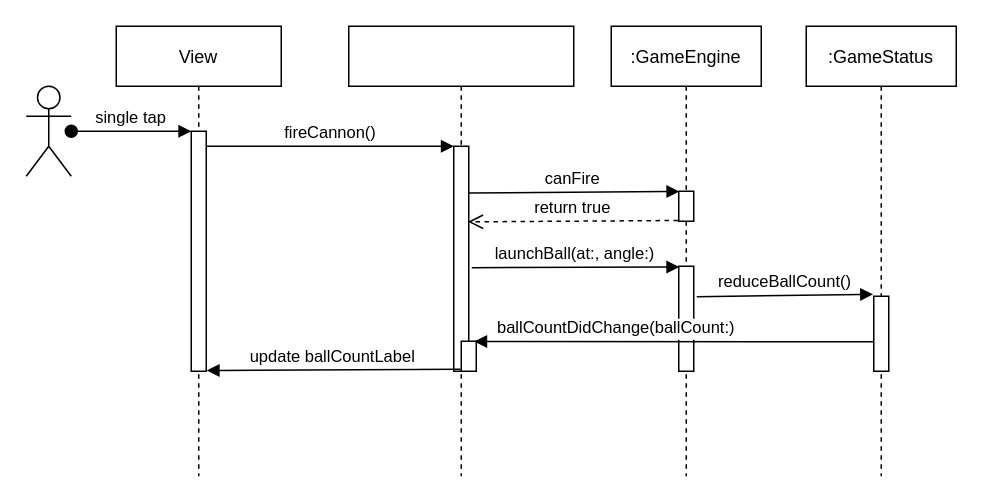
Some shapes in this 983 by 503 pixel diagram are drawn without their labels. The shapes that lost their labels are listed below. From the top down, each one's box as (x1, y1, x2, y2) in pixels, then its label:
(25, 85, 71, 176): User
(347, 25, 574, 476): :PeggleGameController
